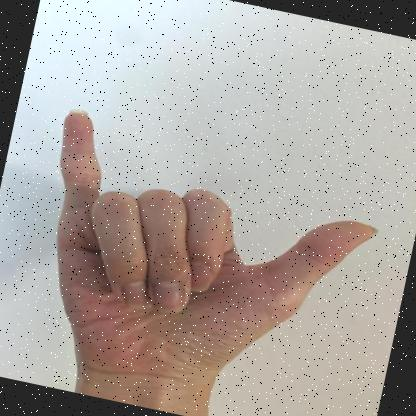Y: (56, 108, 378, 400)
